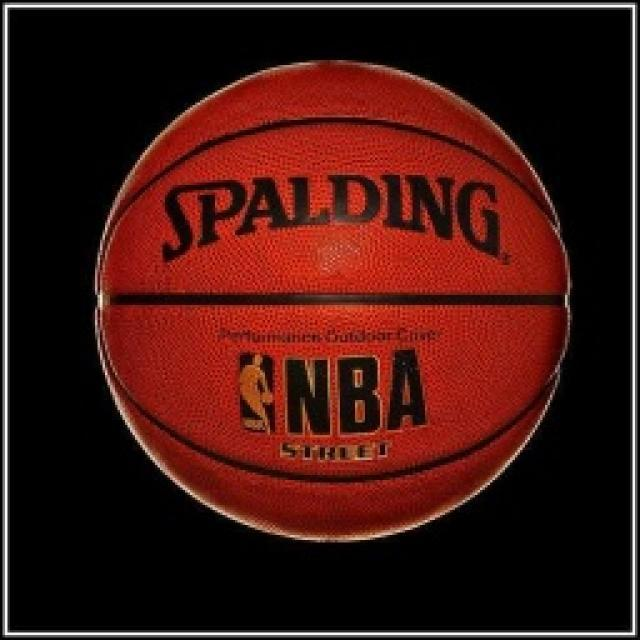rim: (89, 50, 588, 559)
